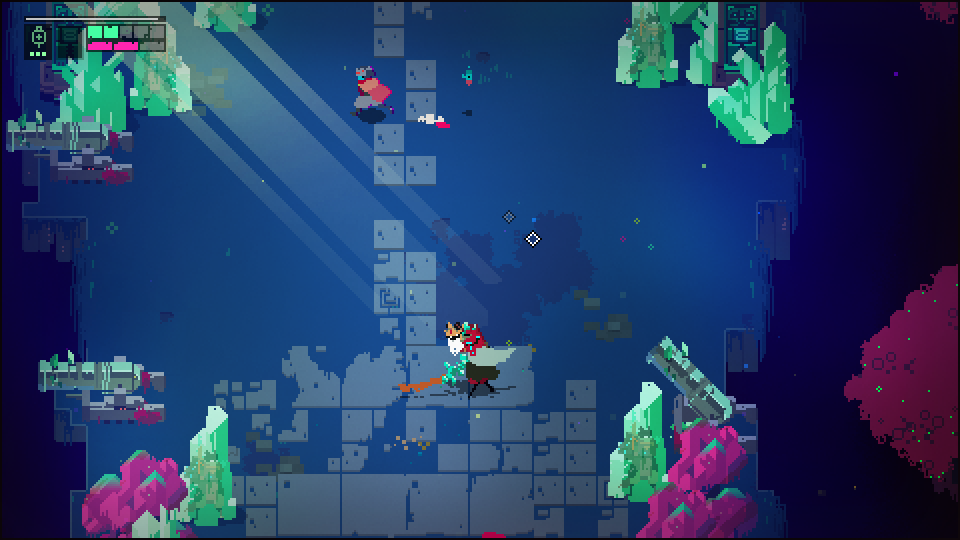hanged_man: (424, 317, 517, 402)
player: (353, 65, 394, 120)
